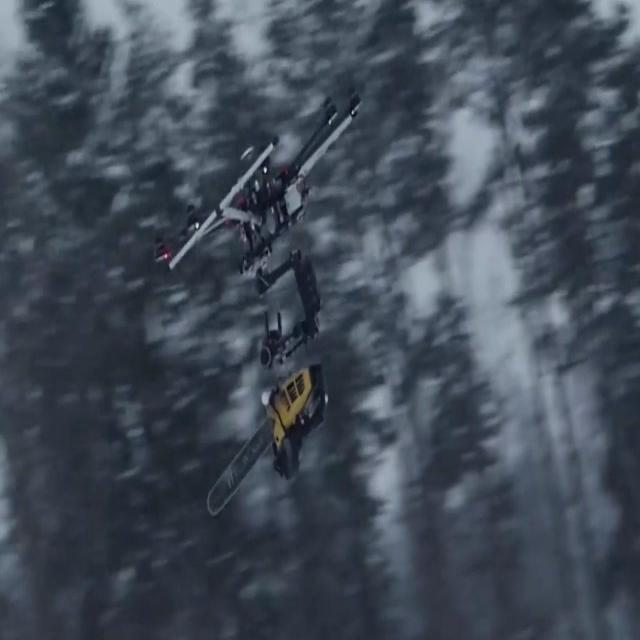drone: (150, 84, 370, 369)
